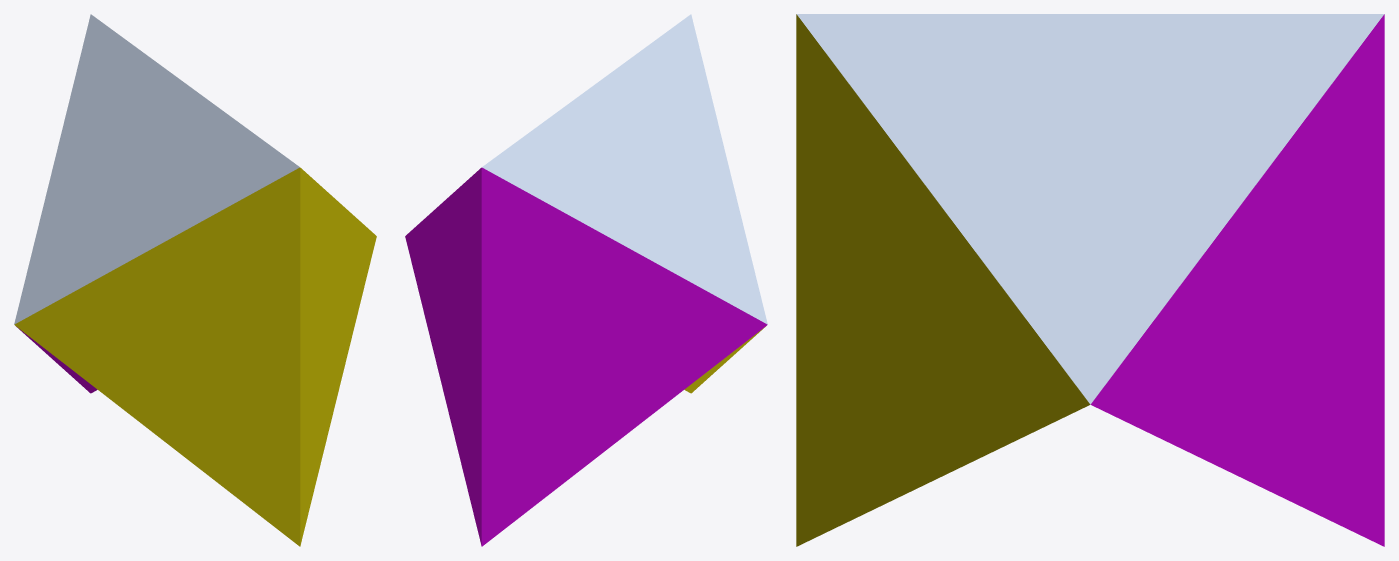
Rendered from TetragonalDisphenoidal_3_2.glb.
The picture shows the model from 3 angles, left to right: view 1: azimuth 30°, elevation 25°; view 2: azimuth 150°, elevation 25°; view 3: azimuth 270°, elevation 25°; orthographic projection. The views are drawn at different scales.
Bounding box in the file's own units: 4 × 4 × 4.
